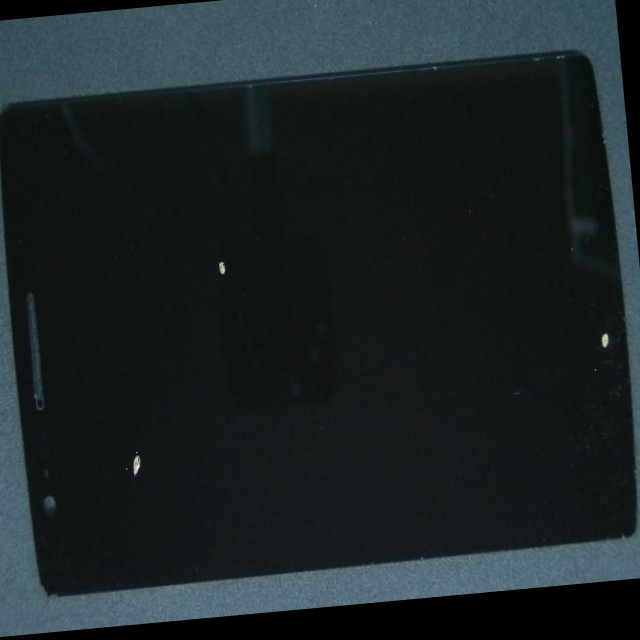stain: (293, 119, 640, 519), (83, 86, 349, 391), (63, 248, 248, 628)
